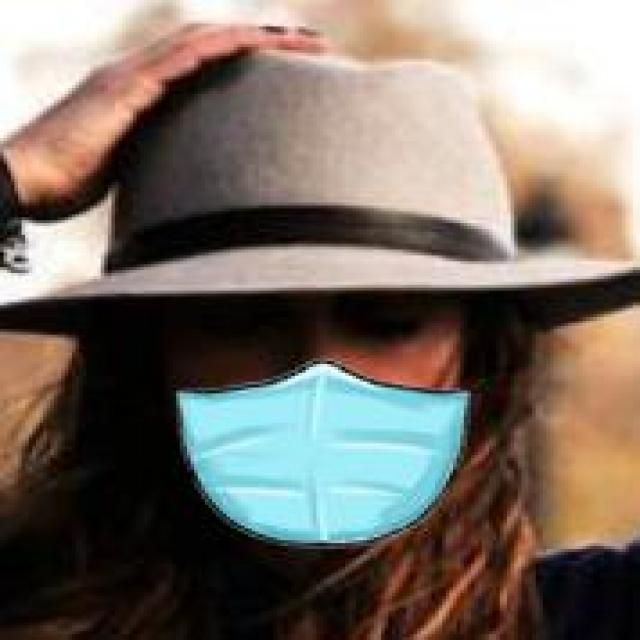mask: (83, 68, 503, 564)
